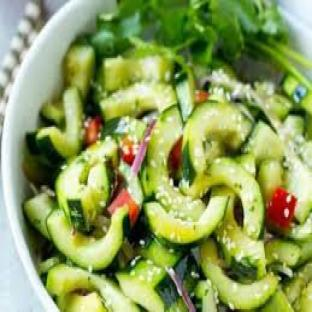Cucumber: (141, 107, 204, 220), (181, 102, 250, 197), (56, 140, 118, 231), (200, 240, 278, 310), (199, 158, 265, 239), (47, 206, 130, 270), (213, 189, 266, 278), (46, 264, 139, 311), (116, 256, 195, 311), (144, 197, 228, 244), (37, 87, 83, 164), (100, 83, 177, 120), (100, 55, 173, 91), (244, 121, 284, 165), (285, 158, 311, 223), (64, 44, 95, 98), (23, 193, 56, 239), (255, 83, 292, 120), (138, 237, 180, 268), (22, 152, 57, 186), (102, 116, 146, 143), (257, 160, 284, 204), (119, 161, 144, 207), (282, 76, 311, 114), (284, 263, 311, 303), (57, 292, 108, 311), (176, 73, 195, 122), (266, 239, 299, 266), (259, 290, 293, 311), (194, 282, 218, 311), (286, 214, 311, 241), (40, 102, 65, 127), (38, 255, 63, 276), (284, 115, 304, 138), (235, 155, 256, 176), (298, 282, 311, 311), (298, 240, 311, 265), (300, 142, 311, 168), (305, 115, 311, 139)
Tomato: (267, 189, 297, 228), (109, 189, 139, 225), (85, 116, 102, 146)
